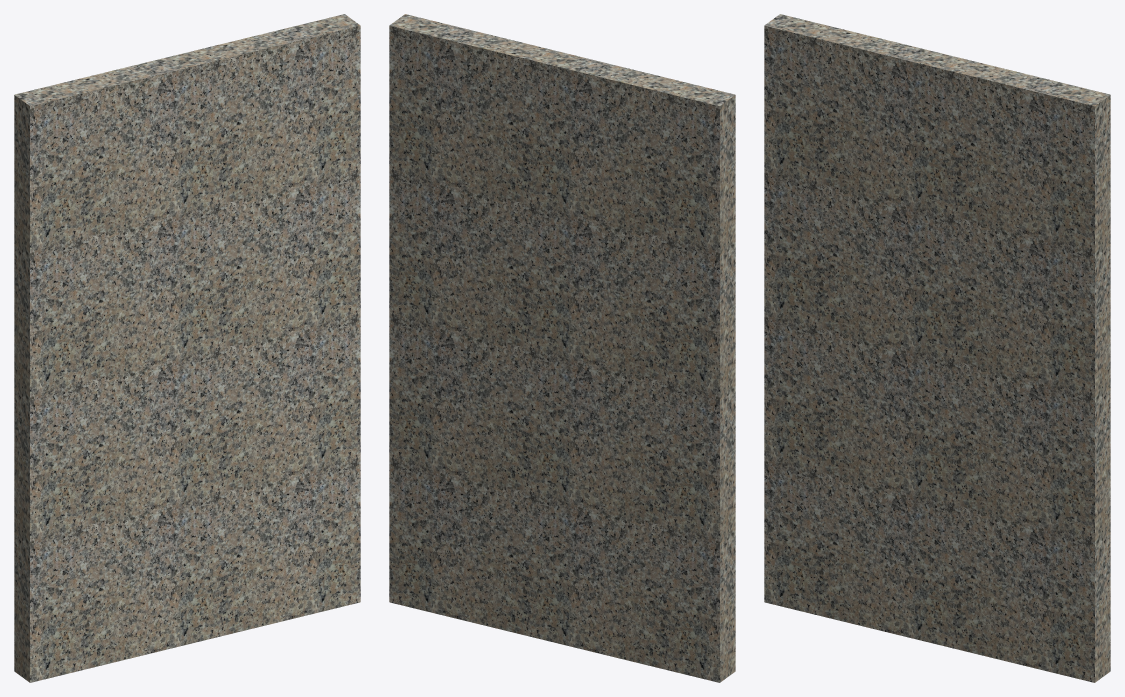
File: Lobby_Wall_12.obj
3 views of the same model, side by side, from view 1: azimuth 30°, elevation 25°; view 2: azimuth 150°, elevation 25°; view 3: azimuth 330°, elevation 25° (orthographic).
Parts seen in each view (by area): view 1: Lobby_Wall_12; view 2: Lobby_Wall_12; view 3: Lobby_Wall_12.
Boxes of the visible parts, x1,y1,x2,y2 form: Lobby_Wall_12: (14,14,360,682); Lobby_Wall_12: (389,14,735,682); Lobby_Wall_12: (764,14,1110,682).
Size of the model in its own units: 2.4 by 4 by 0.2.
Materials: 1 (1 with a texture image).
